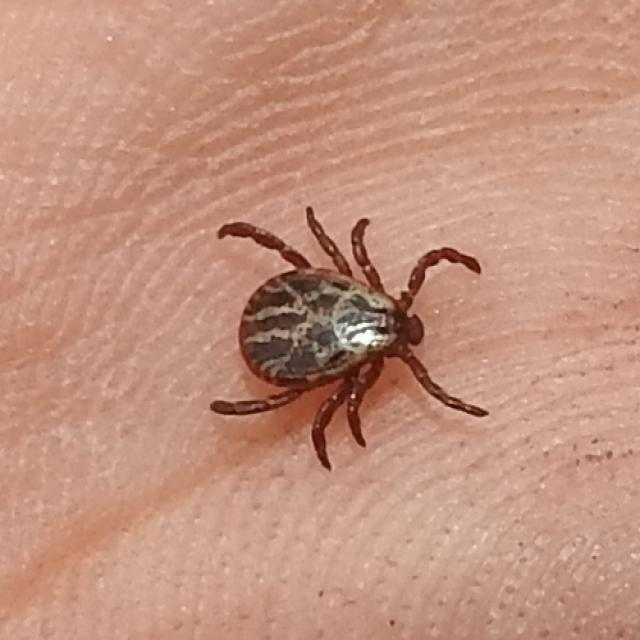Dermacentor Reticulatus-M: (210, 208, 490, 472)
